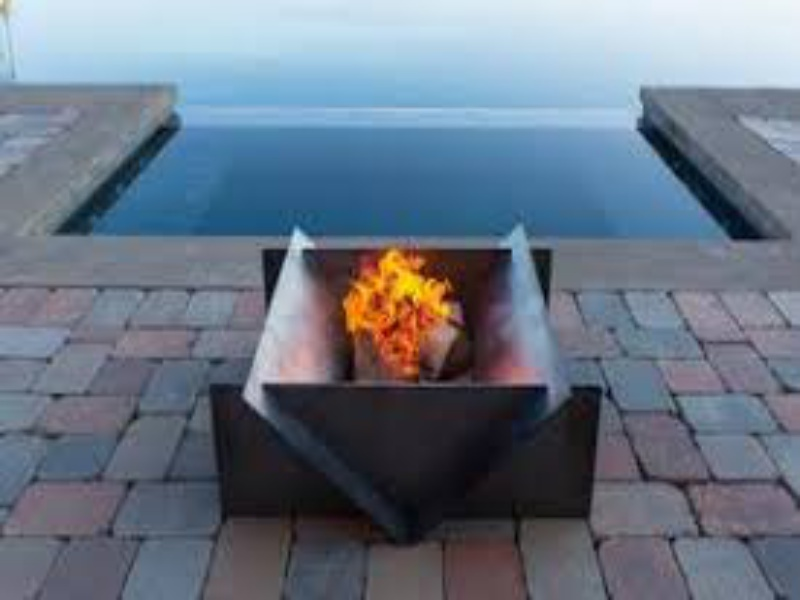fire: (339, 250, 459, 331), (381, 333, 420, 376)
